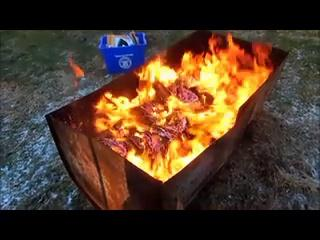fire: (95, 31, 274, 182)
